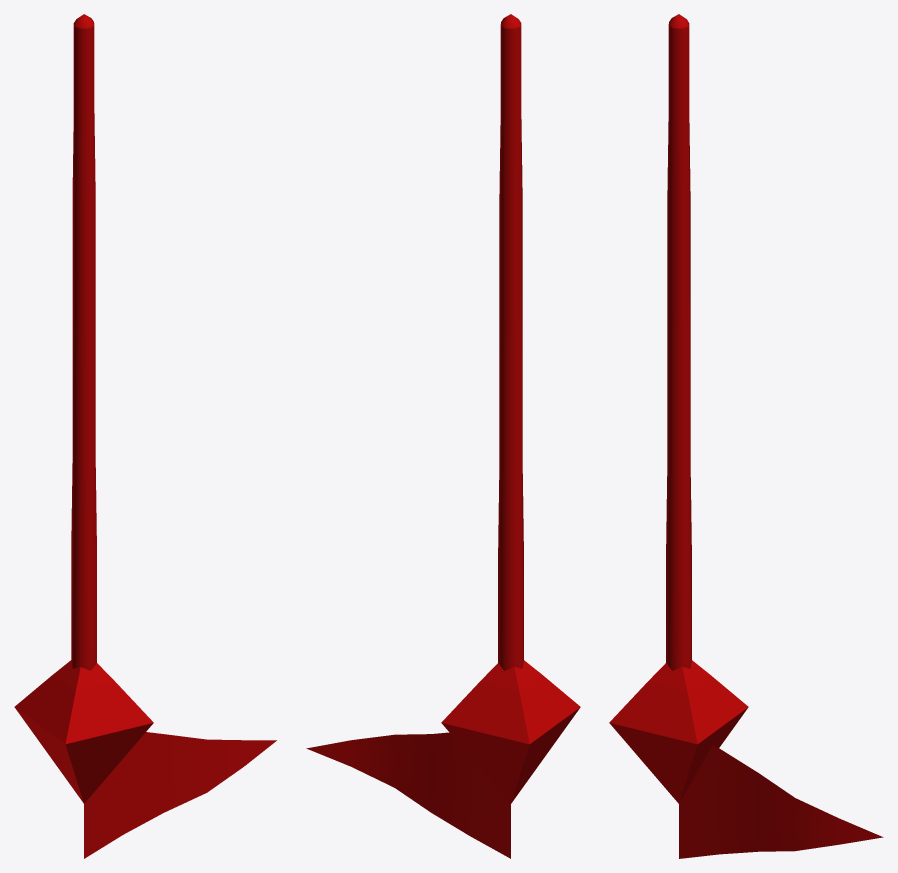
The model's file is checkpoint.glb.
The picture shows the model from 3 angles, left to right: view 1: azimuth 30°, elevation 25°; view 2: azimuth 150°, elevation 25°; view 3: azimuth 330°, elevation 25°; orthographic projection.
Parts seen in each view (by area): view 1: pole, flag, marker; view 2: pole, flag, marker; view 3: pole, flag, marker.
Boxes of the visible parts, x1,y1,x2,y2 form: pole: [71, 14, 96, 670]; flag: [84, 732, 276, 858]; marker: [14, 660, 153, 803]; pole: [498, 14, 523, 670]; flag: [306, 732, 510, 858]; marker: [441, 660, 580, 803]; pole: [666, 14, 691, 670]; flag: [679, 745, 883, 858]; marker: [609, 660, 748, 803].
Size of the model in its own units: 1.16 by 3.85 by 0.4219.
